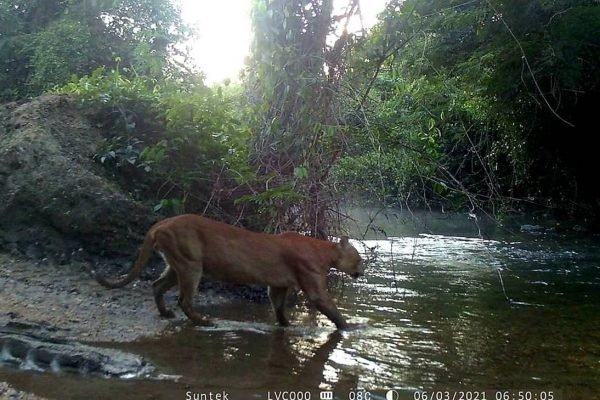OncaParda: (92, 212, 366, 337)
